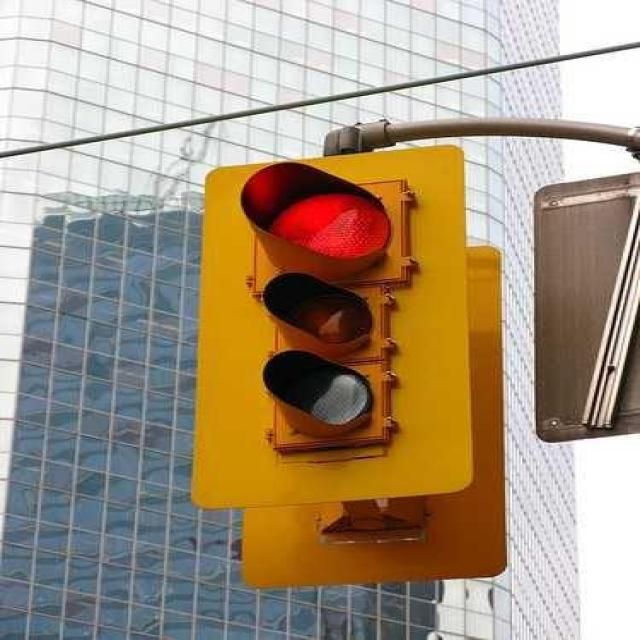Traffic Light -Red-: (242, 150, 398, 470)
